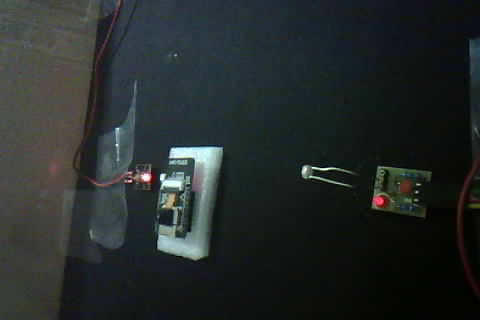esp32: (152, 146, 223, 255)
